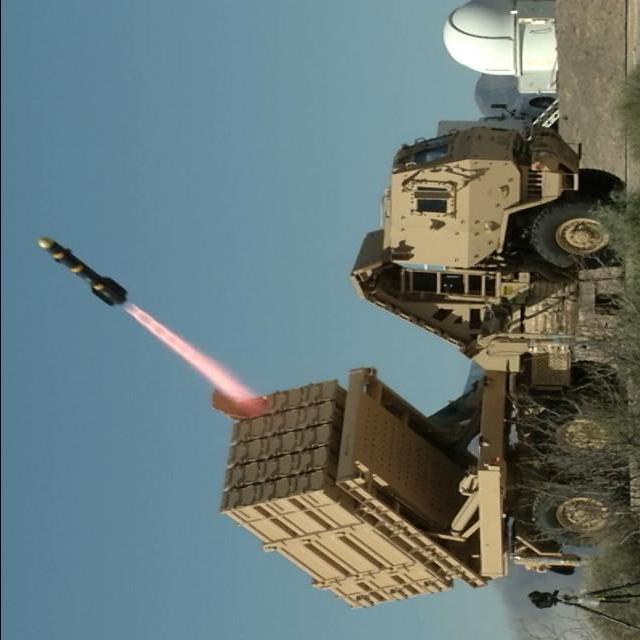Missile: (32, 233, 137, 308)
